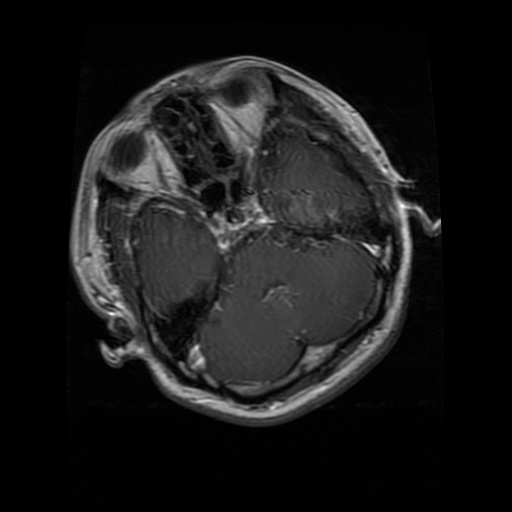glioma: (223, 203, 244, 222)
